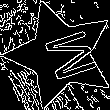M_W: (27, 25, 94, 85)
